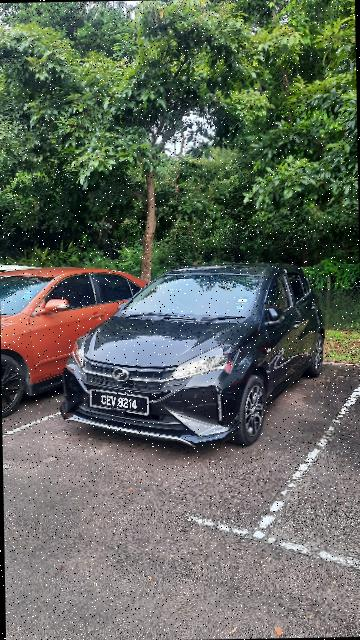License_Plate: (89, 390, 153, 420)
car: (61, 262, 330, 455), (2, 264, 156, 415)
